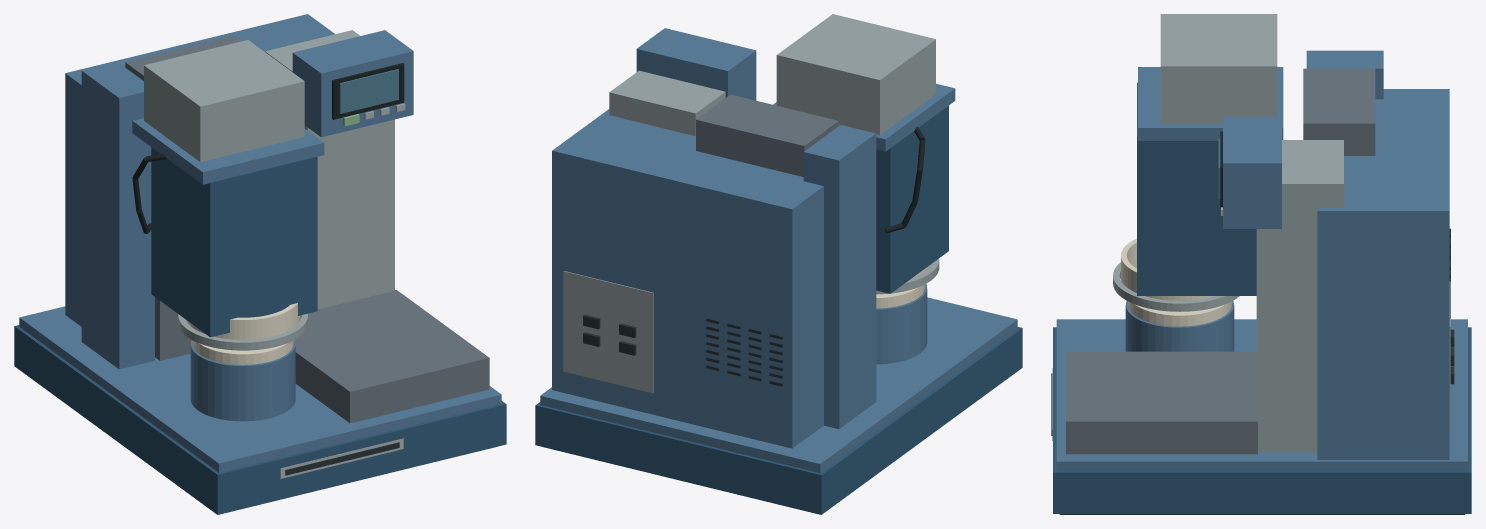
3 renders of one model, left to right at view 1: azimuth 30°, elevation 25°; view 2: azimuth 150°, elevation 25°; view 3: azimuth 270°, elevation 25°, orthographic. The views are drawn at different scales.
Visible parts, largest first — view 1: Furnace_shroud, Base_460x560, Tower_left_trim, Deck_trim, Sample_deck, Furnace_cap, Right_controller_stand, Back_casting, Controller_shell, Drive_cover, Furnace_colored_belt, Driving_column (+7 smaller); view 2: Back_casting, Base_460x560, Tower_left_trim, Deck_trim, Furnace_cap, Furnace_shroud, Rear_access, Driving_column, Controller_shell, Right_controller_stand, Drive_cover, Furnace_colored_belt (+2 smaller); view 3: Back_casting, Sample_deck, Base_460x560, Right_controller_stand, Furnace_shroud, Deck_trim, Furnace_cap, Controller_shell, Driving_column, Drive_cover, Furnace_colored_belt, Tower_left_trim (+3 smaller).
Part boxes in pixels (box(x1,y1,x2,y2)): Furnace_shroud: box(151, 147, 317, 337); Base_460x560: box(14, 325, 506, 514); Tower_left_trim: box(81, 62, 154, 369); Deck_trim: box(19, 306, 501, 472); Sample_deck: box(295, 289, 489, 423); Furnace_cap: box(144, 40, 304, 162); Right_controller_stand: box(265, 30, 394, 309); Back_casting: box(65, 14, 334, 326); Controller_shell: box(292, 30, 413, 137); Drive_cover: box(190, 340, 295, 421); Furnace_colored_belt: box(132, 118, 324, 184); Driving_column: box(125, 35, 241, 360); Back_casting: box(552, 109, 823, 448); Base_460x560: box(535, 327, 1022, 514); Tower_left_trim: box(803, 125, 876, 428); Deck_trim: box(540, 297, 1017, 472); Furnace_cap: box(776, 14, 935, 134); Furnace_shroud: box(876, 105, 948, 293); Rear_access: box(563, 271, 653, 393); Driving_column: box(696, 94, 838, 176); Controller_shell: box(636, 28, 756, 100); Right_controller_stand: box(609, 70, 725, 136); Drive_cover: box(876, 284, 927, 364); Furnace_colored_belt: box(773, 83, 955, 151); Back_casting: box(1317, 89, 1449, 459); Sample_deck: box(1066, 351, 1257, 454); Base_460x560: box(1053, 327, 1471, 513); Right_controller_stand: box(1256, 140, 1343, 452); Furnace_shroud: box(1137, 82, 1256, 295); Deck_trim: box(1056, 319, 1467, 471); Furnace_cap: box(1160, 14, 1277, 123); Controller_shell: box(1223, 116, 1281, 228); Driving_column: box(1303, 68, 1375, 155); Drive_cover: box(1125, 301, 1234, 351); Furnace_colored_belt: box(1138, 67, 1283, 140); Tower_left_trim: box(1306, 50, 1383, 99).
Size of the model in its own units: 0.46 by 0.56 by 0.562.
